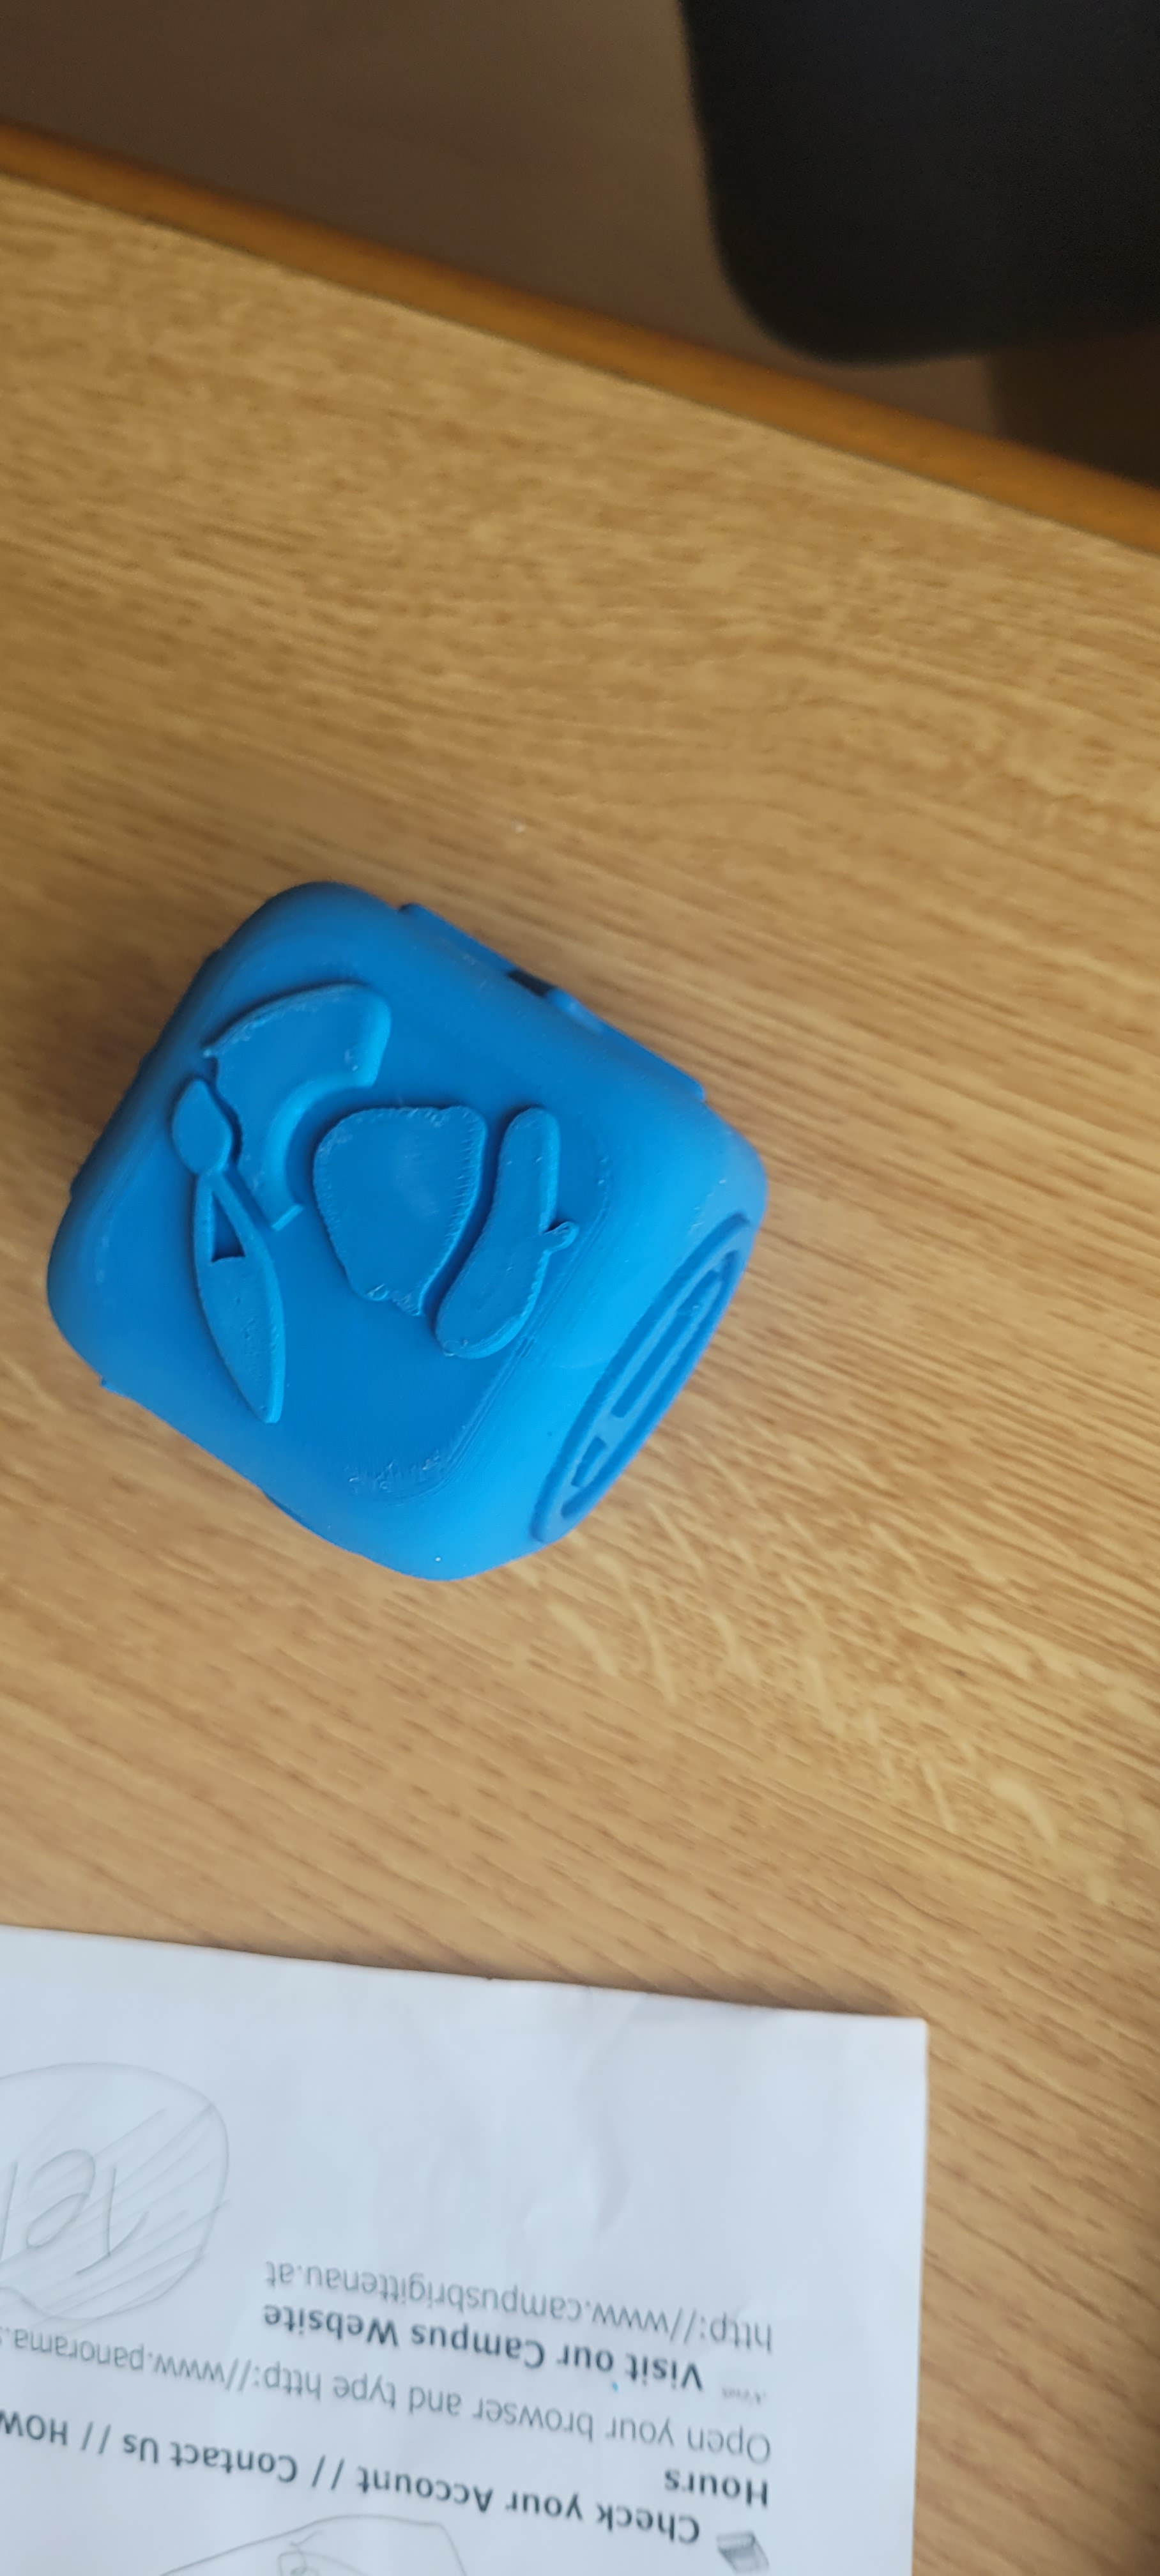Artist_Info: (105, 818, 665, 1516)
